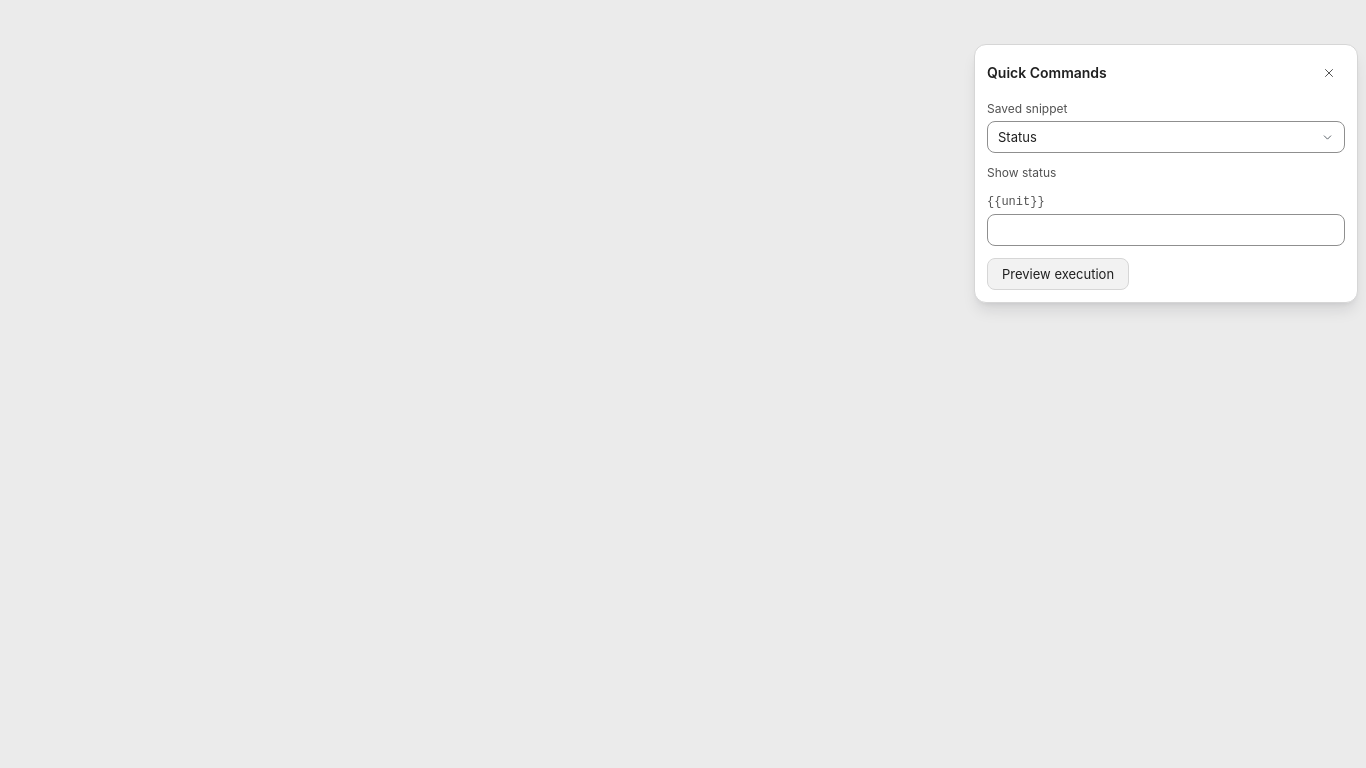
Test: TerminalQuickCommands › explains a refused preview in words instead of showing the failure code
The image size is (1366, 768).
Type "sshd" into the field at (1166, 230), box [987, 214, 1345, 246]
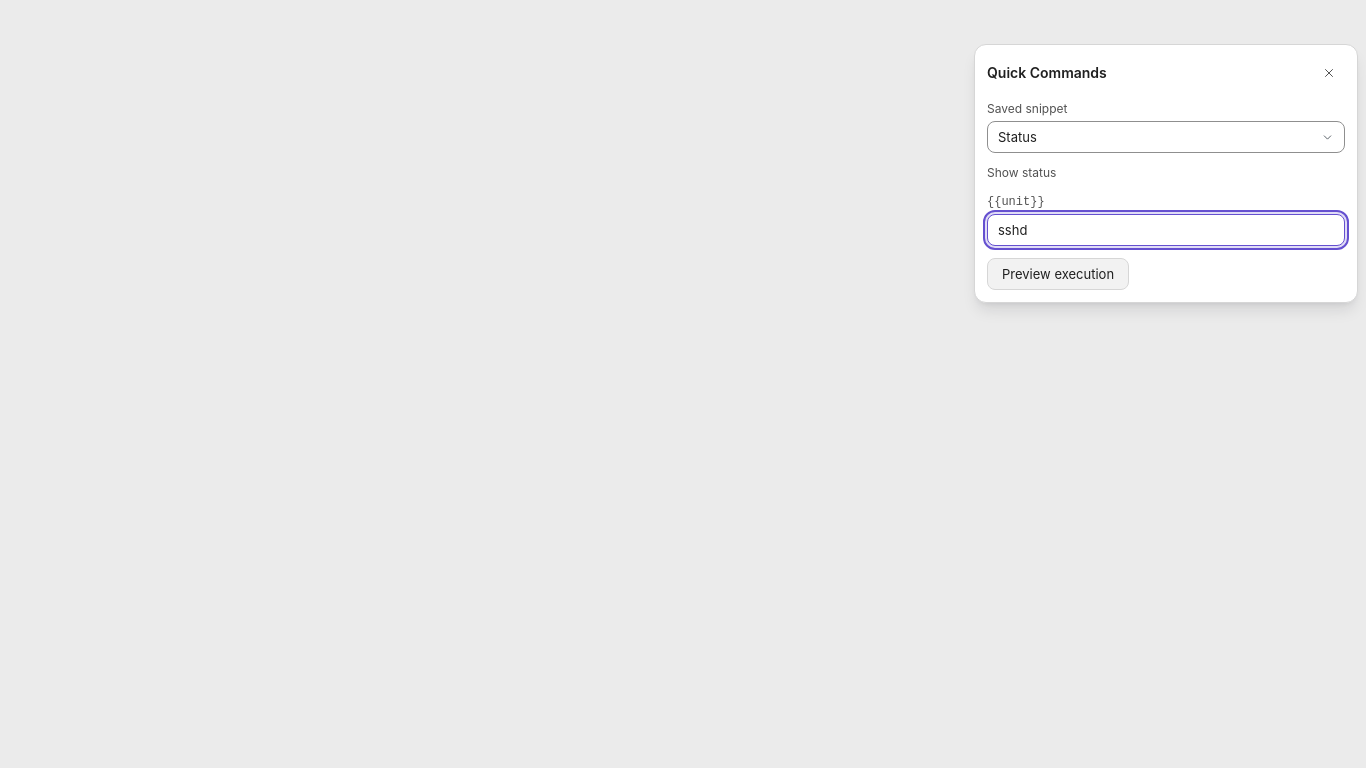
Click the button "Preview execution" at (1058, 274), box [987, 258, 1129, 290]
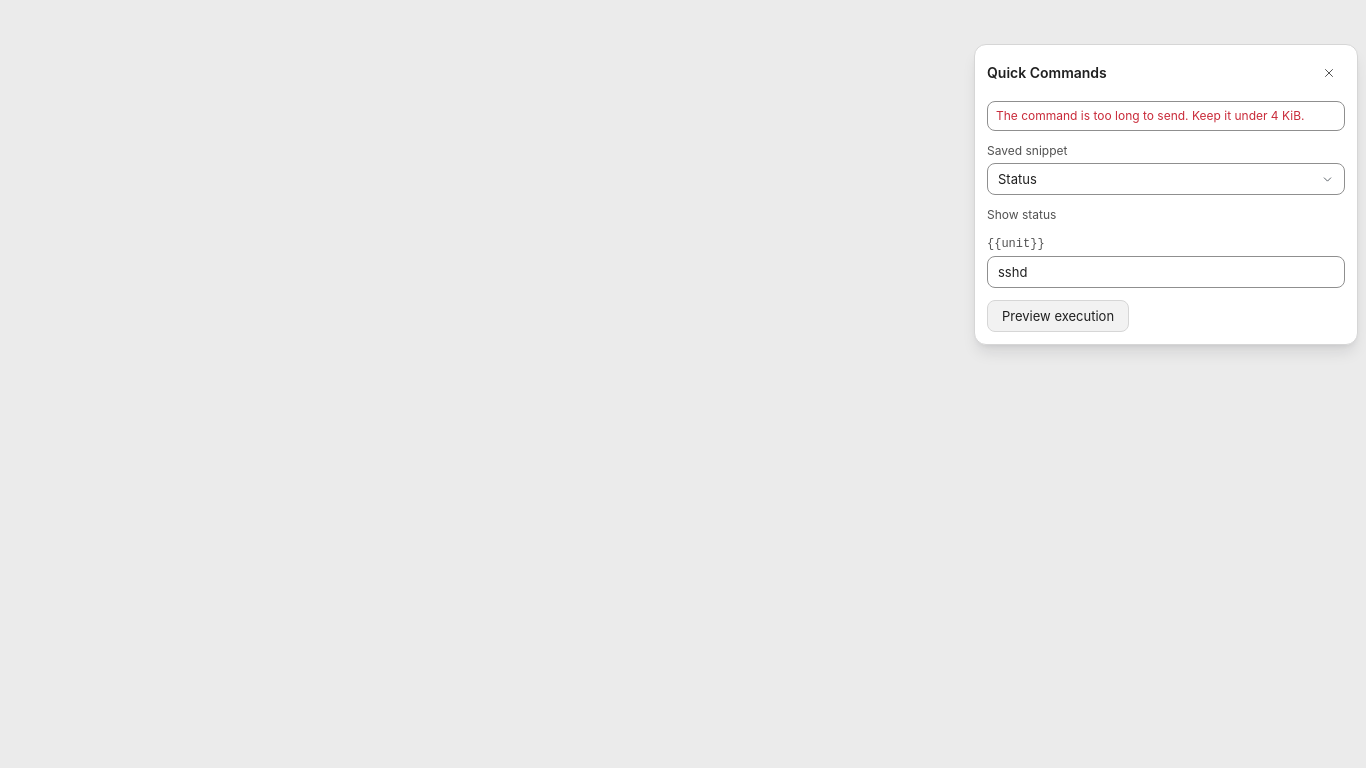
Expected: the message shows "The command is too long to send.", [996, 108, 1304, 123]
